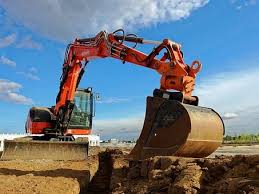excavator: (26, 29, 225, 172)
